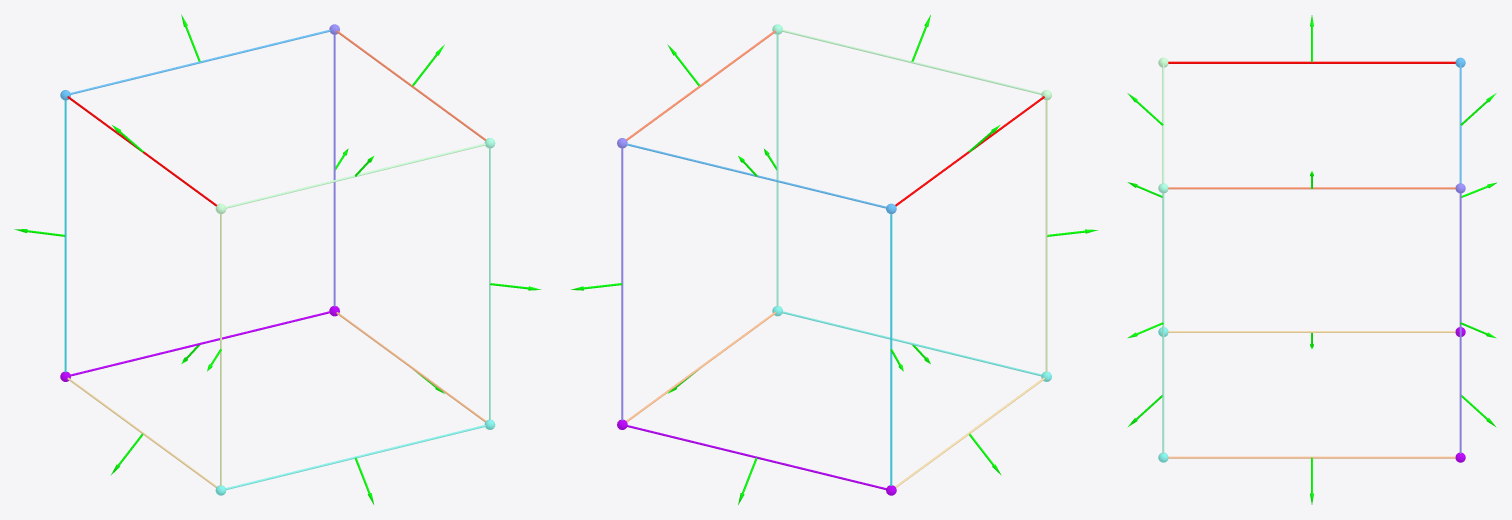
3 renders of one model, left to right at view 1: azimuth 30°, elevation 25°; view 2: azimuth 150°, elevation 25°; view 3: azimuth 270°, elevation 25°, orthographic. The views are drawn at different scales.
Size of the model in its own units: 0.7188 by 0.7207 by 0.7207.
